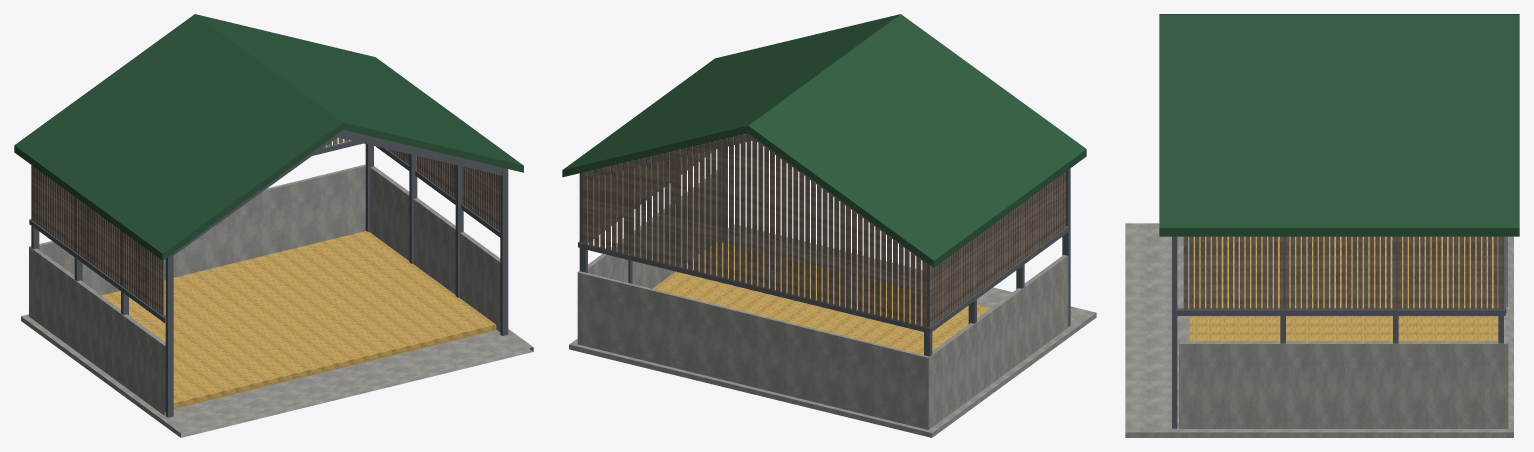
File: pasture-shelter.glb
The picture shows the model from 3 angles, left to right: view 1: azimuth 30°, elevation 25°; view 2: azimuth 150°, elevation 25°; view 3: azimuth 270°, elevation 25°; orthographic projection. The views are drawn at different scales.
Visible parts, largest first — view 1: pasture-shelter-CattleShelter; view 2: pasture-shelter-CattleShelter; view 3: pasture-shelter-CattleShelter.
Part boxes in pixels (x1,y1,x2,y2): pasture-shelter-CattleShelter: (14,14,533,437); pasture-shelter-CattleShelter: (562,14,1096,437); pasture-shelter-CattleShelter: (1125,14,1519,437).
Bounding box in the file's own units: 4.41 × 3.06 × 3.43.
Materials: 4 (3 with a texture image).
